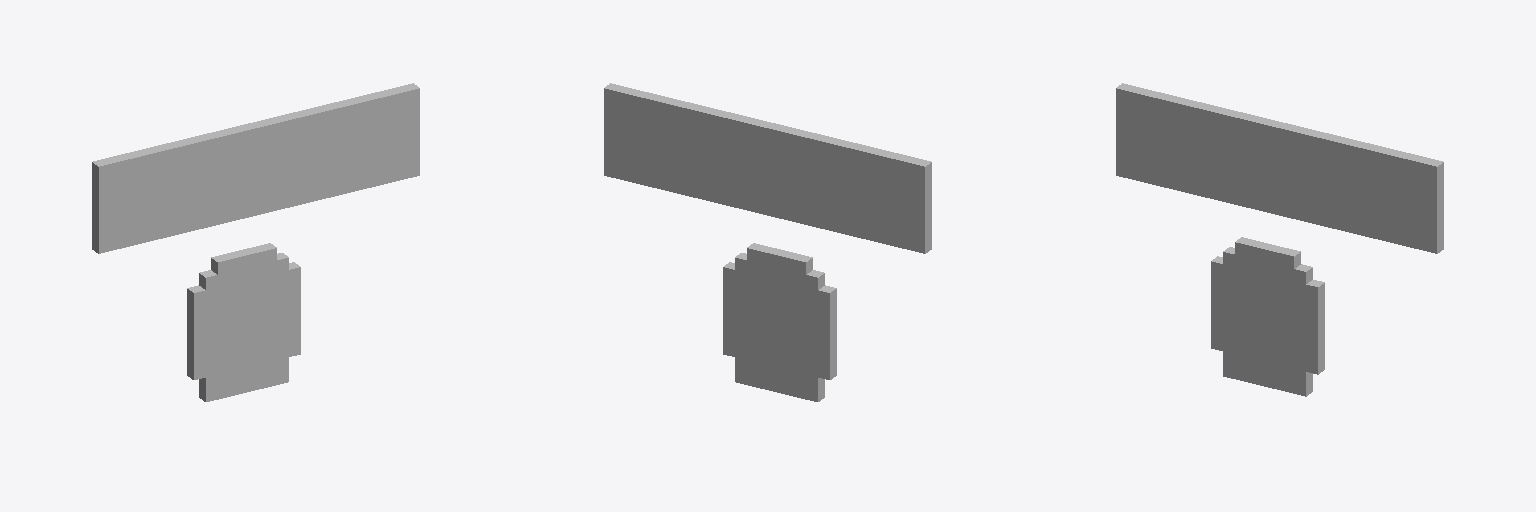
File: shoot sign.obj
3 renders of one model, left to right at view 1: azimuth 30°, elevation 25°; view 2: azimuth 150°, elevation 25°; view 3: azimuth 330°, elevation 25°, orthographic.
Visible parts, largest first — view 1: object 1; view 2: object 1; view 3: object 1.
Boxes of the visible parts, <box> form: object 1: <box>92,83,419,401</box>; object 1: <box>604,83,931,401</box>; object 1: <box>1116,83,1443,396</box>.
Size of the model in its own units: 2.7 by 2.1 by 0.1.